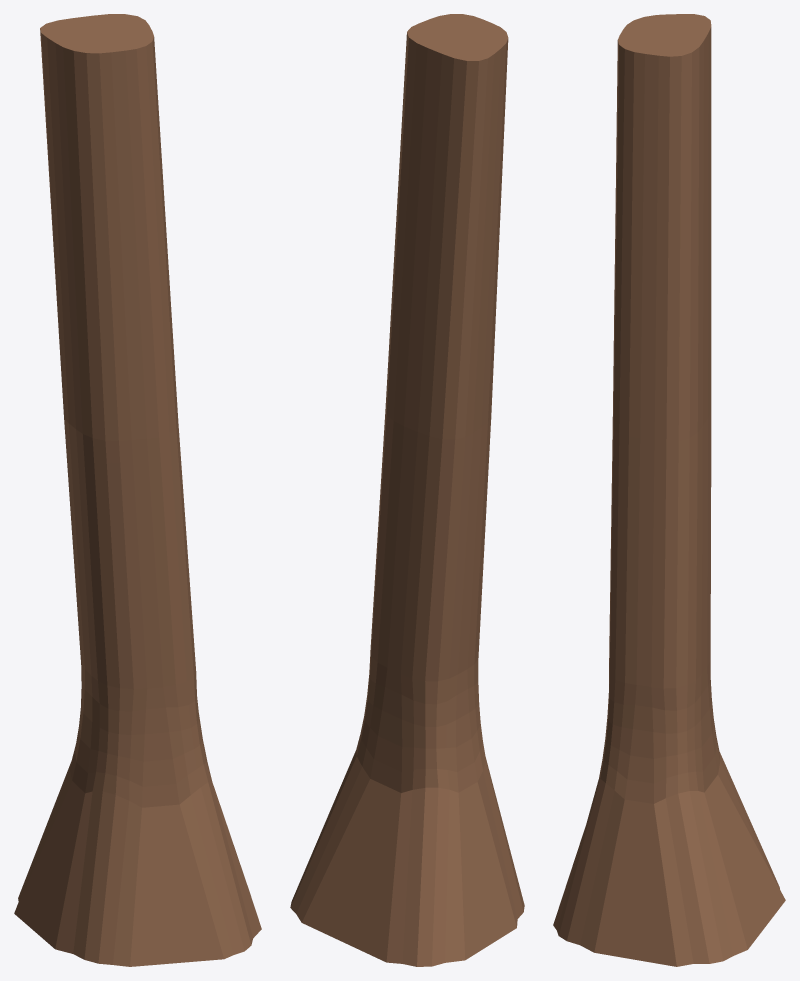
The model's file is thunk.glb.
The picture shows the model from 3 angles, left to right: view 1: azimuth 30°, elevation 25°; view 2: azimuth 150°, elevation 25°; view 3: azimuth 270°, elevation 25°; orthographic projection. The views are drawn at different scales.
Visible parts, largest first — view 1: Trunk; view 2: Trunk; view 3: Trunk.
Boxes of the visible parts, <box> form: Trunk: <box>14,14,261,966</box>; Trunk: <box>290,14,524,966</box>; Trunk: <box>553,14,785,966</box>.
Bounding box in the file's own units: 5.66 × 23.57 × 5.78.
